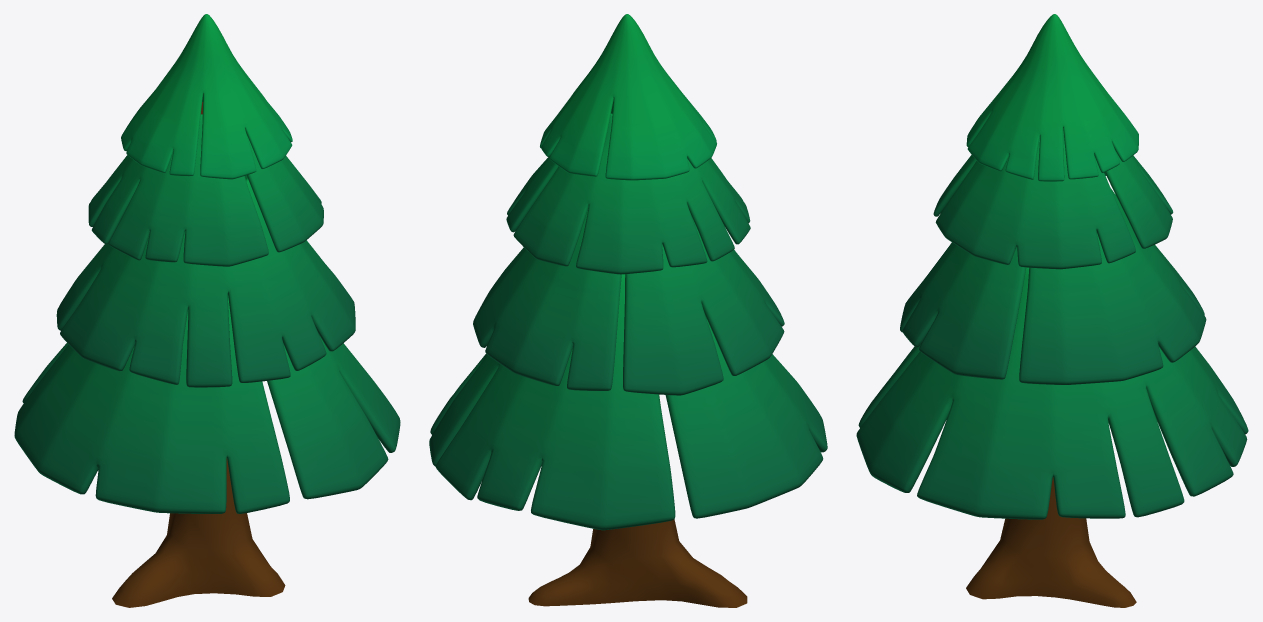
The model's file is Tree.fbx.
3 renders of one model, left to right at view 1: azimuth 30°, elevation 25°; view 2: azimuth 150°, elevation 25°; view 3: azimuth 270°, elevation 25°, orthographic. The views are drawn at different scales.
Parts seen in each view (by area): view 1: Cylinder.006; view 2: Cylinder.006; view 3: Cylinder.006.
Part boxes in pixels (left/top/right/bottom): Cylinder.006: left=14, top=14, right=400, bottom=607; Cylinder.006: left=429, top=14, right=827, bottom=607; Cylinder.006: left=856, top=14, right=1248, bottom=607.
Size of the model in its own units: 2.85 by 2.83 by 4.49.
